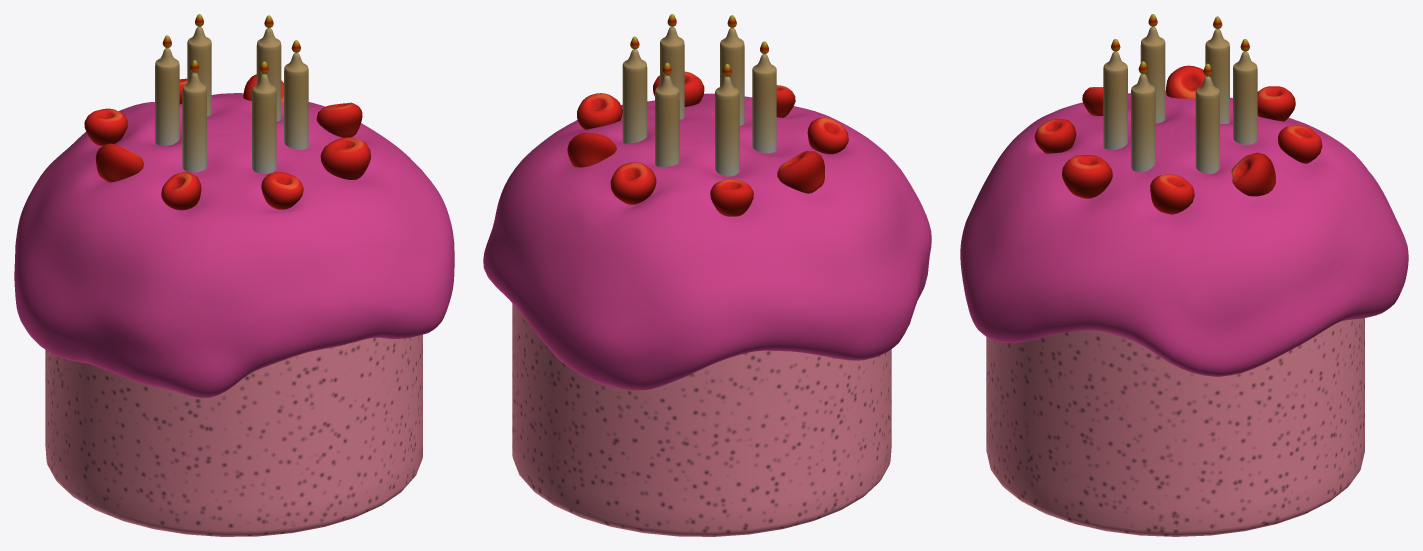
The picture shows the model from 3 angles, left to right: view 1: azimuth 30°, elevation 25°; view 2: azimuth 150°, elevation 25°; view 3: azimuth 270°, elevation 25°; orthographic projection.
Parts seen in each view (by area): view 1: cream, cake, candle.001, candle, candle.005, candle.002, cherry.002, cherry.007, candle.003, cherry.006, cherry.001, cherry.003 (+2 smaller); view 2: cream, cake, candle.005, candle, candle.003, candle.004, cherry.007, cherry.005, candle.001, candle.002, cherry.006, cherry.004 (+3 smaller); view 3: cream, cake, candle.001, candle.002, candle.003, candle.004, cherry.002, candle, cherry.004, candle.005, cherry.003, cherry.005 (+4 smaller).
Boxes of the visible parts, <box> form: cream: <box>14,93,454,398</box>; cake: <box>45,334,422,536</box>; candle.001: <box>252,74,276,173</box>; candle: <box>182,73,206,172</box>; candle.005: <box>155,48,179,145</box>; candle.002: <box>284,53,308,149</box>; cherry.002: <box>320,137,370,179</box>; cherry.007: <box>95,143,143,182</box>; candle.003: <box>256,28,281,121</box>; cherry.006: <box>84,108,127,146</box>; cherry.001: <box>261,172,303,209</box>; cherry.003: <box>316,102,362,137</box>; cream: <box>483,93,931,390</box>; cake: <box>512,303,891,536</box>; candle.005: <box>715,76,739,176</box>; candle: <box>752,54,776,153</box>; candle.003: <box>622,49,647,143</box>; candle.004: <box>655,75,679,166</box>; cherry.007: <box>777,151,824,193</box>; cherry.005: <box>610,162,656,204</box>; candle.001: <box>720,28,744,125</box>; candle.002: <box>660,27,684,119</box>; cherry.006: <box>710,179,753,216</box>; cherry.004: <box>567,132,616,167</box>; cream: <box>960,90,1408,376</box>; cake: <box>986,318,1364,536</box>; candle.001: <box>1103,51,1127,149</box>; candle.002: <box>1131,74,1155,172</box>; candle.003: <box>1195,76,1219,173</box>; candle.004: <box>1233,51,1257,144</box>; cherry.002: <box>1062,155,1112,198</box>; candle: <box>1140,26,1165,123</box>; cherry.004: <box>1231,152,1275,196</box>; candle.005: <box>1205,29,1229,123</box>; cherry.003: <box>1150,174,1194,214</box>; cherry.005: <box>1278,125,1322,163</box>.
Bounding box in the file's own units: 2.54 × 2.61 × 2.51.
6 materials, 6 textured.
